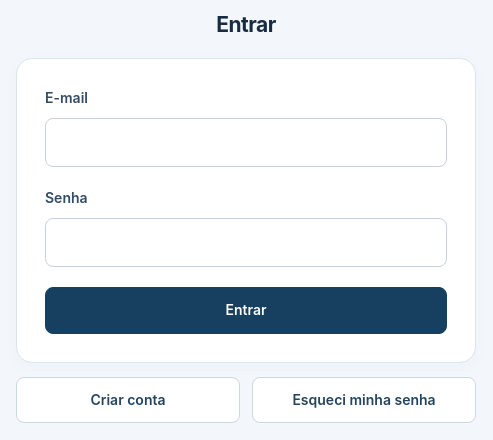
Scenario: acesso real via cliente de Auth › recupera senha sem revelar se o e-mail existe
This screenshot has width=493, height=440.
Click the button "Esqueci minha senha". click: (364, 400)
box: [252,377,476,423]
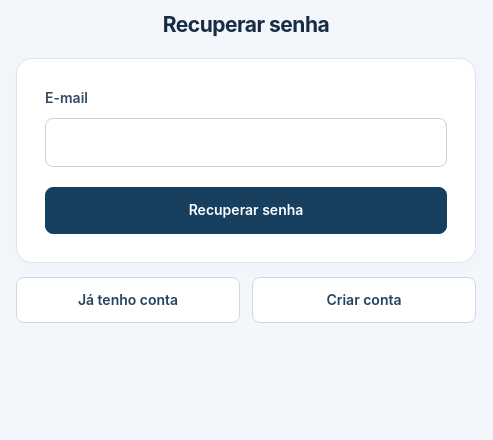
Type "ana@example.test" into the field labelled "E-mail". click: (246, 142)
box: [45,118,447,167]
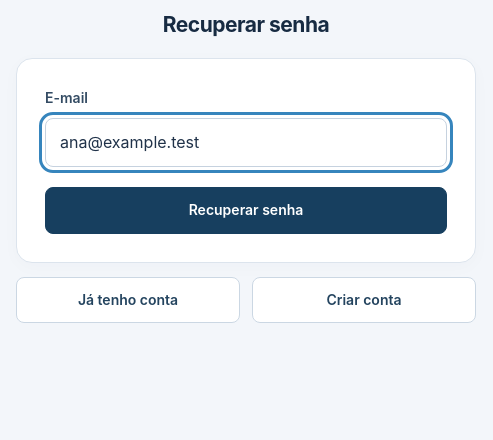
Click the button "Recuperar senha". click: (246, 210)
box: [45,187,447,234]
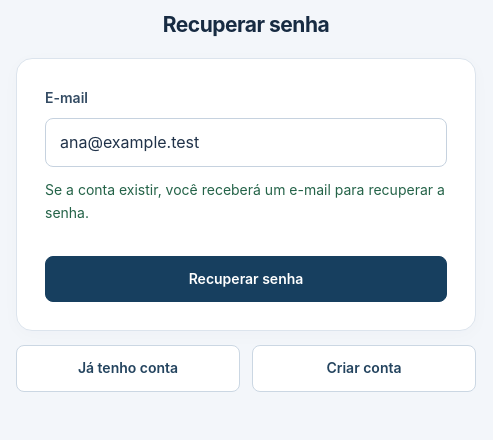
Result: the message shows "Se a conta existir" at [45,181,445,221]
